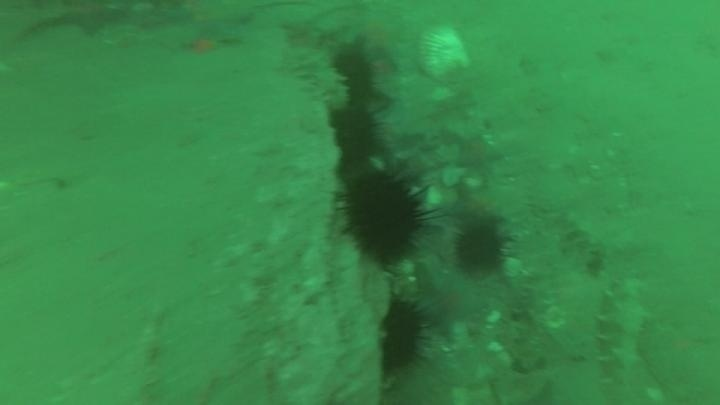echinus: (338, 170, 430, 264), (377, 295, 431, 375), (327, 105, 384, 167), (452, 221, 509, 274), (330, 47, 378, 106)
holothurian: (594, 274, 653, 405), (284, 44, 352, 112)
scallop: (416, 24, 472, 83)
starfish: (411, 261, 487, 340), (342, 12, 410, 68), (51, 1, 125, 39), (446, 183, 506, 228), (450, 130, 504, 176)
